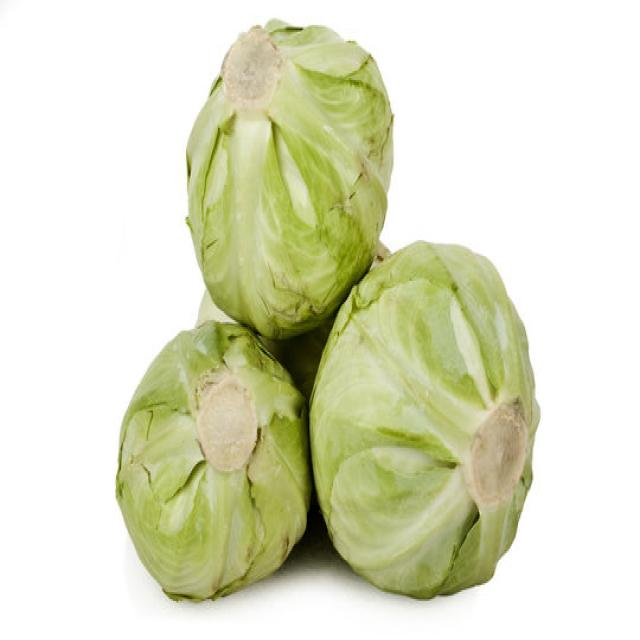Cabbage: (307, 238, 540, 599), (183, 16, 394, 340), (116, 324, 314, 608)
